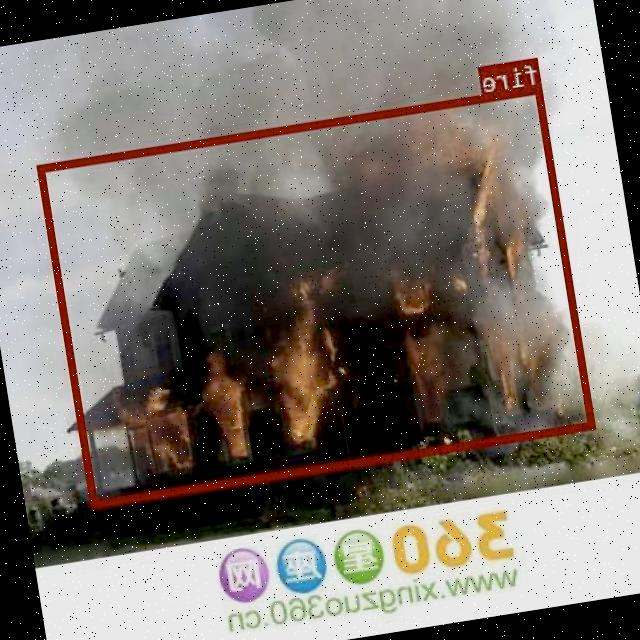fire: (39, 84, 598, 508)
